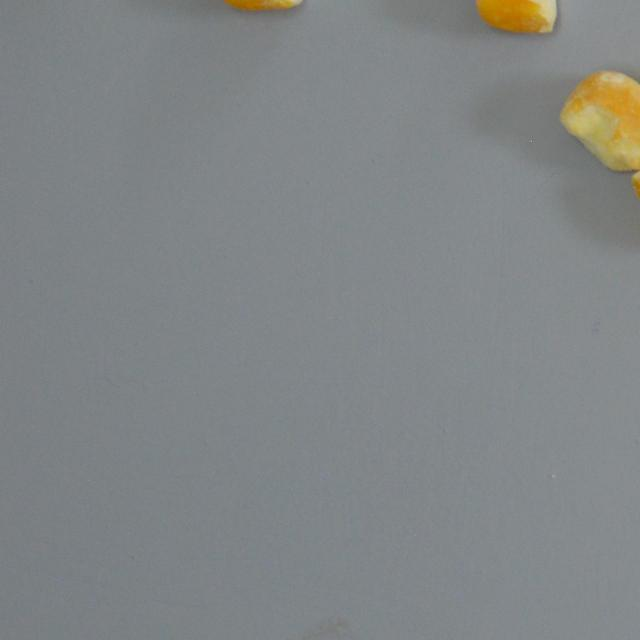dañado: (470, 0, 576, 42)
pelicula: (556, 66, 640, 174), (212, 0, 311, 14)
